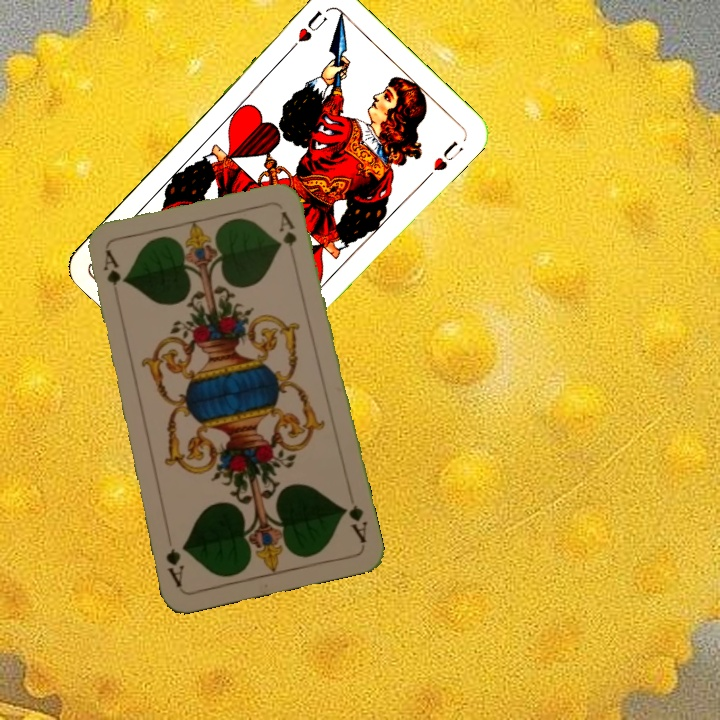GA: (99, 246, 124, 305), (339, 500, 370, 546)
HU: (286, 7, 330, 53)
